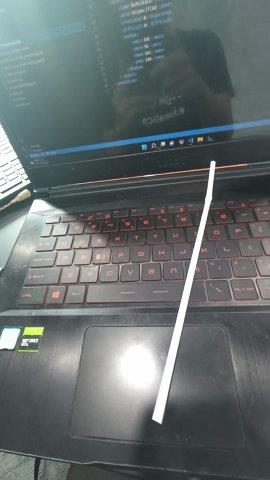sedotan: (152, 161, 216, 424)
